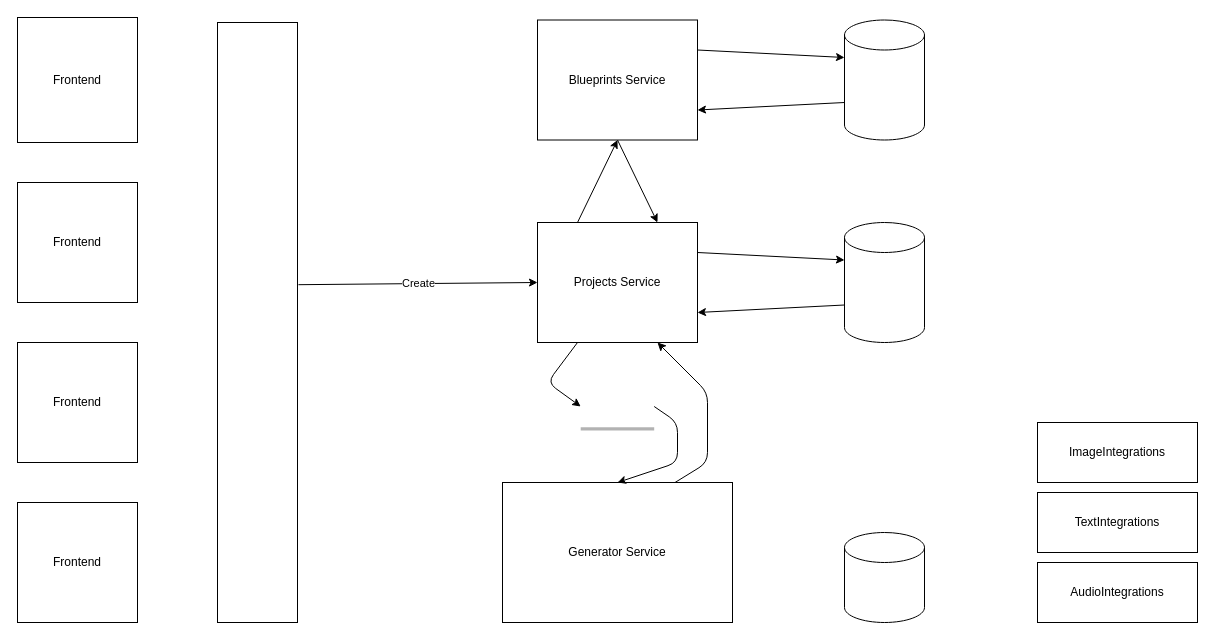
Some shapes in this 1215 by 640 pixel diagram are drawn without their labels. Here are the shapes that lost their labels. From the top down, the centre of each, then its label:
[884,79]: Blueprints Storage
[884,282]: Projects NoSQL DB
[257,322]: API
[617,406]: Generator Queue
[884,577]: Generators Storage
